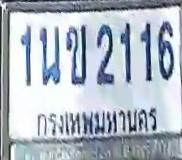1: (20, 25, 32, 86), (140, 22, 152, 80), (120, 22, 132, 78)
2: (96, 24, 114, 86)
6: (157, 20, 174, 80)
A02: (66, 24, 87, 86)
A25: (39, 26, 61, 85)
BKK: (31, 104, 164, 139)
